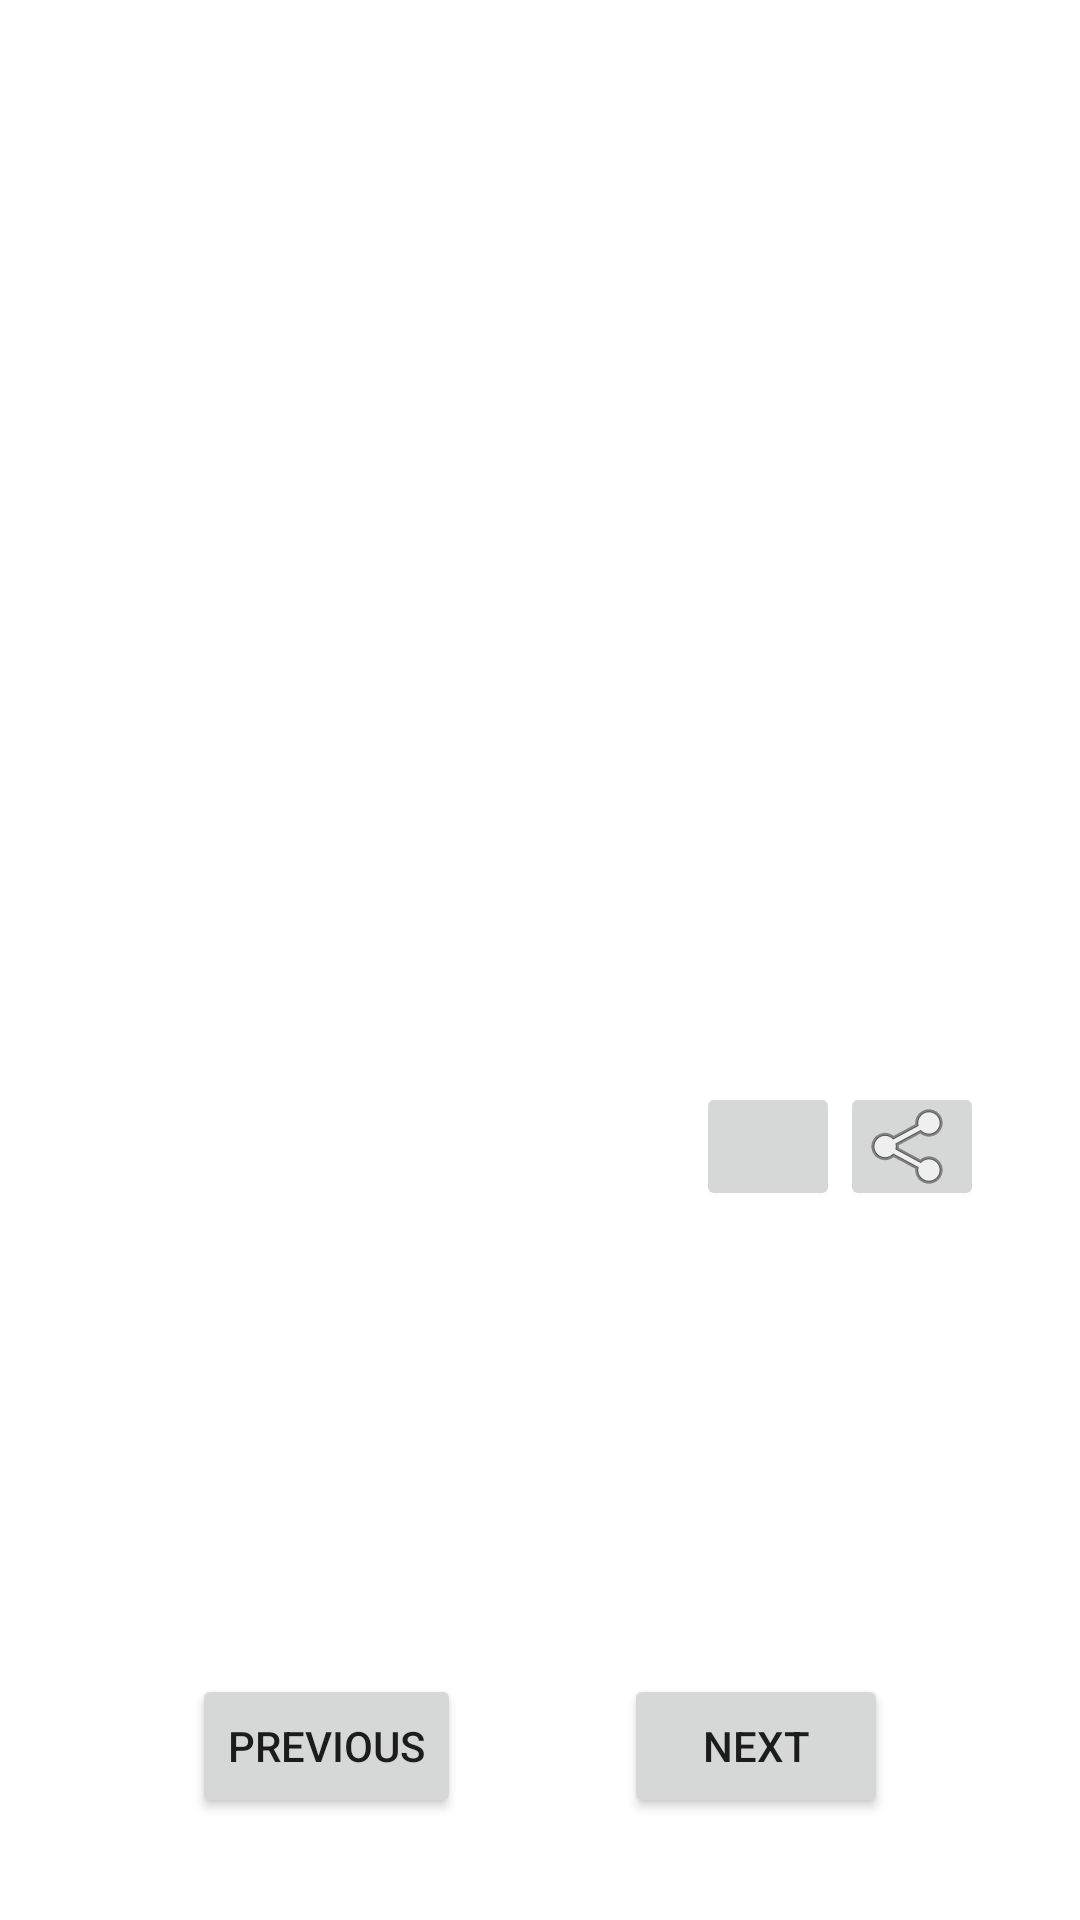

Icon click points for this 1080px x 1920px phone screenshot, format point (x, y):
share: point (912, 1146)
